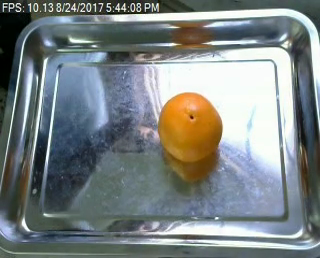Orange: (158, 92, 223, 163)
